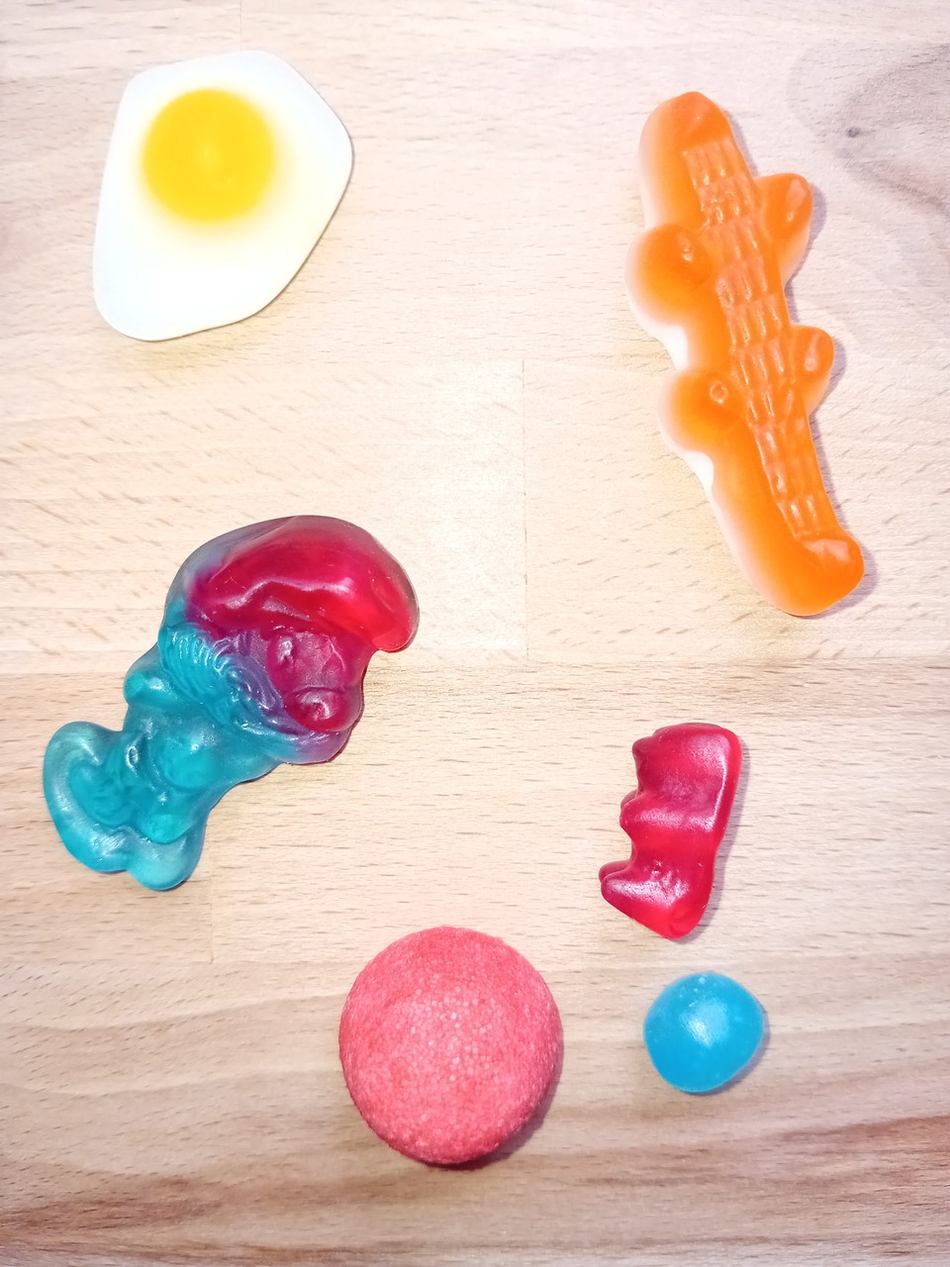crocodile_orange: (612, 85, 882, 625)
dragibus_bleu: (641, 965, 770, 1098)
oeuf_oeuf: (86, 47, 360, 346)
ourson_rouge: (596, 711, 747, 943)
schtroumpf_bleu-rouge: (27, 508, 426, 896)
tagada_fraise: (333, 920, 567, 1175)
